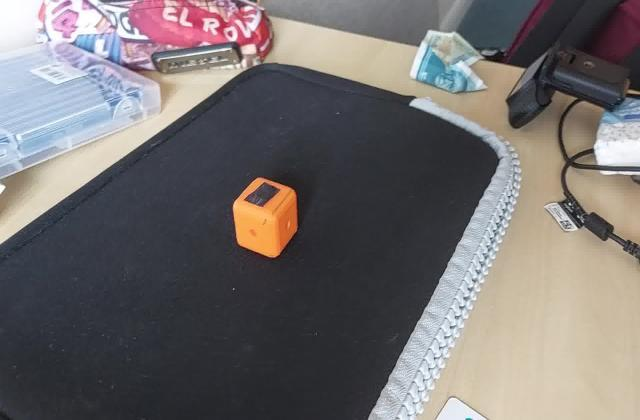black: (244, 182, 282, 208)
cube: (232, 176, 302, 260)
